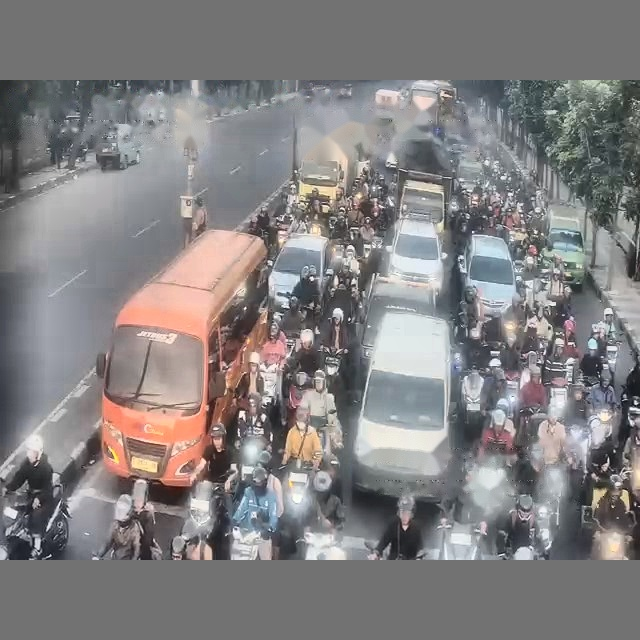Mobil: (353, 311, 453, 500), (359, 274, 435, 370), (386, 216, 446, 300), (268, 233, 332, 311), (458, 234, 516, 316), (456, 155, 483, 190), (337, 84, 353, 99)
Motor: (39, 474, 70, 558)
